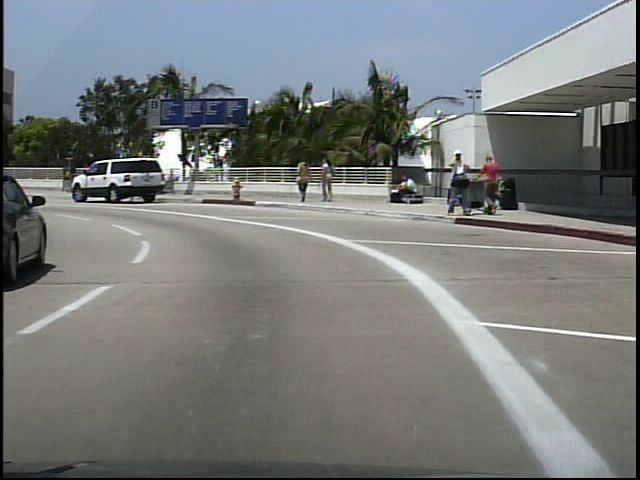person: (450, 147, 474, 222), (479, 154, 502, 217), (296, 155, 313, 206), (319, 158, 336, 208), (394, 175, 417, 206)
